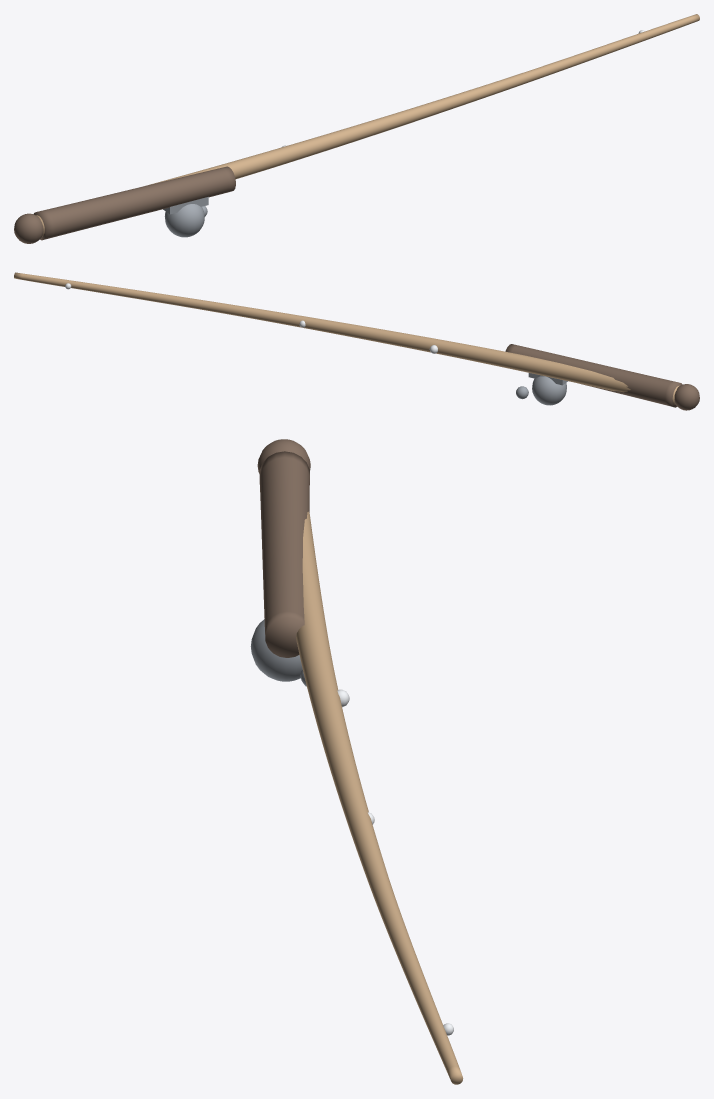
File: rod_v1.glb
The picture shows the model from 3 angles, top to bottom: view 1: azimuth 30°, elevation 25°; view 2: azimuth 150°, elevation 25°; view 3: azimuth 270°, elevation 25°; orthographic projection. The views are drawn at different scales.
Visible parts, largest first — view 1: Shaft, Grip, ReelSpool, ButtCap; view 2: Shaft, Grip, ReelSpool, ButtCap; view 3: Shaft, Grip, ReelSpool.
Boxes of the visible parts, x1=… form: Shaft: x1=36, y1=14, x2=699, y2=236; Grip: x1=33, y1=166, x2=235, y2=240; ReelSpool: x1=164, y1=204, x2=204, y2=237; ButtCap: x1=14, y1=213, x2=43, y2=243; Shaft: x1=14, y1=272, x2=679, y2=404; Grip: x1=505, y1=344, x2=682, y2=407; ReelSpool: x1=532, y1=376, x2=566, y2=405; ButtCap: x1=674, y1=384, x2=699, y2=410; Shaft: x1=296, y1=511, x2=463, y2=1084; Grip: x1=259, y1=451, x2=309, y2=657; ReelSpool: x1=250, y1=619, x2=302, y2=681.
Bounding box in the file's own units: 0.5666 × 0.0437 × 0.0814.
